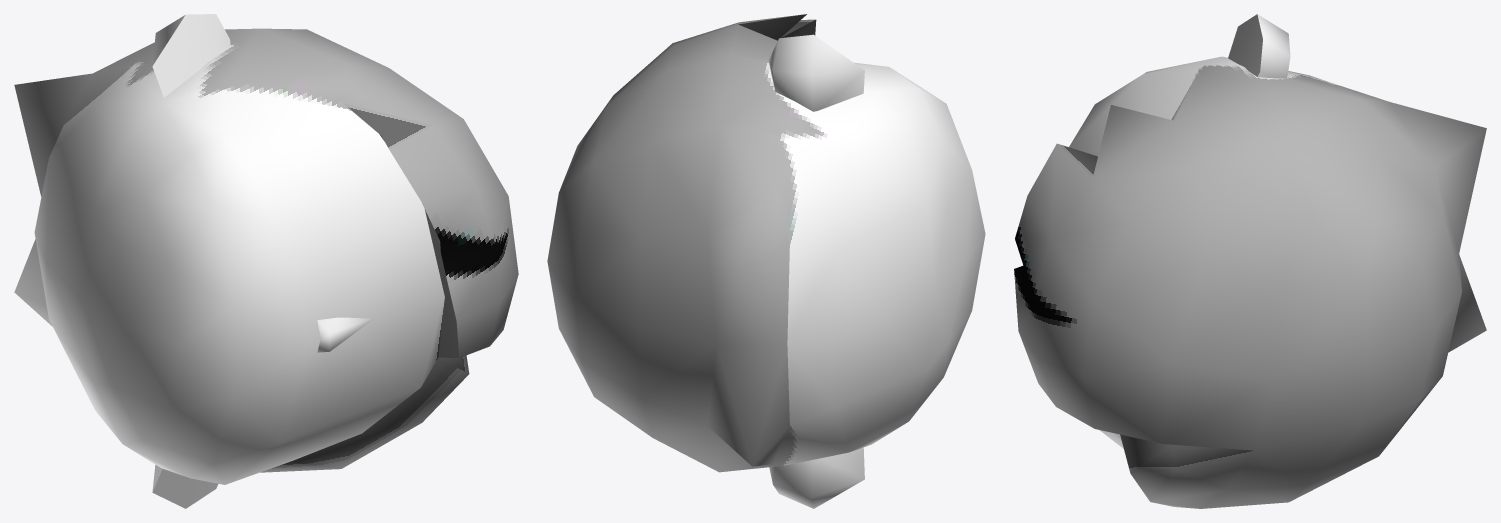
File: boy02a.dae
3 renders of one model, left to right at view 1: azimuth 30°, elevation 25°; view 2: azimuth 150°, elevation 25°; view 3: azimuth 270°, elevation 25°, orthographic. The views are drawn at different scales.
Visible parts, largest first — view 1: boy02a; view 2: boy02a; view 3: boy02a.
Boxes of the visible parts, bbox=[...] form: boy02a: bbox=[14, 14, 518, 508]; boy02a: bbox=[547, 14, 985, 508]; boy02a: bbox=[1014, 14, 1486, 508].
Bounding box in the file's own units: 21.19 × 26.71 × 23.76.
Materials: 3 (1 with a texture image).
